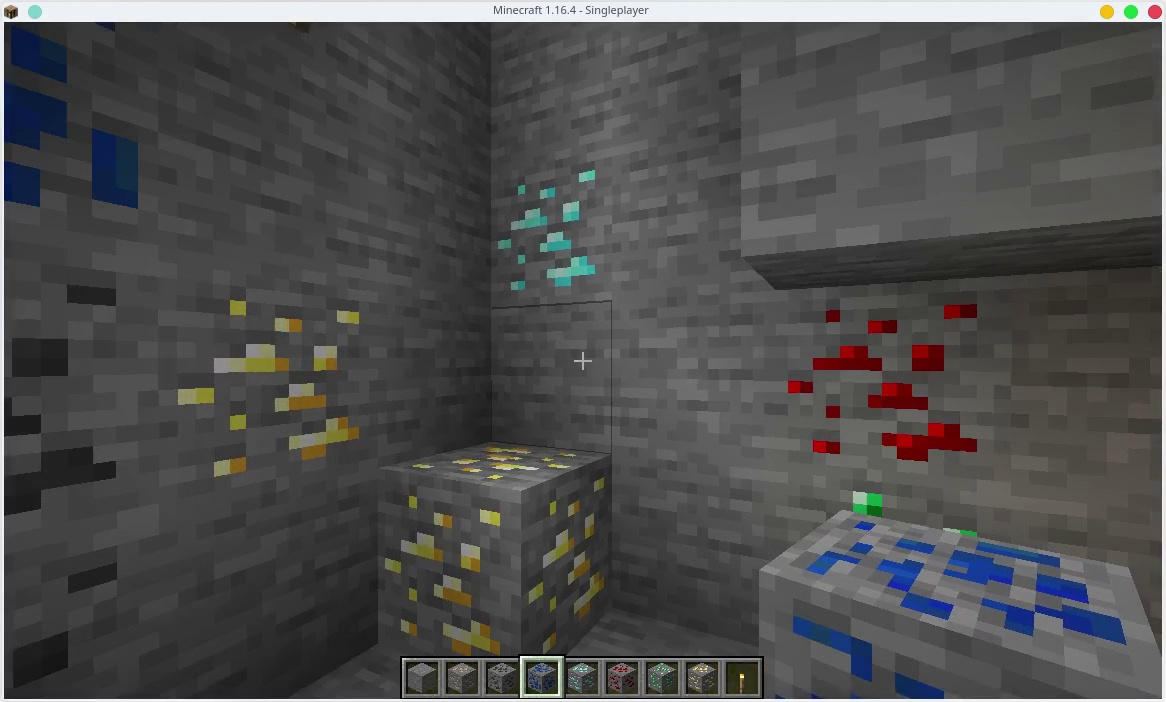gold: (373, 435, 618, 654), (178, 291, 357, 469), (688, 658, 718, 692)
